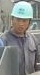boots: (0, 70, 11, 75)
hard-hat: (0, 0, 20, 19)
ppe-suit: (0, 38, 20, 75)
vest: (0, 38, 20, 75)
